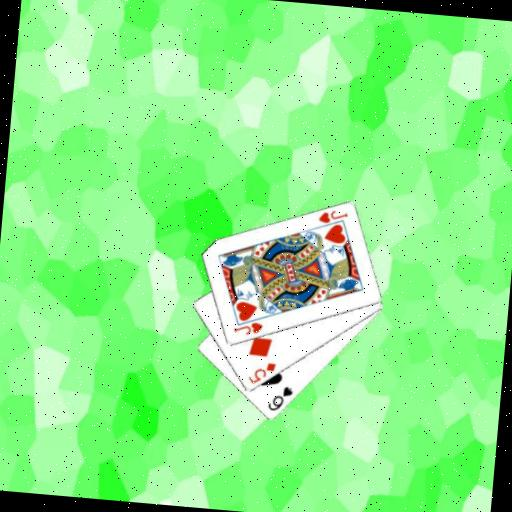5D: (245, 358, 278, 388)
6S: (265, 382, 295, 414)
JH: (230, 317, 265, 338), (315, 206, 349, 227)
